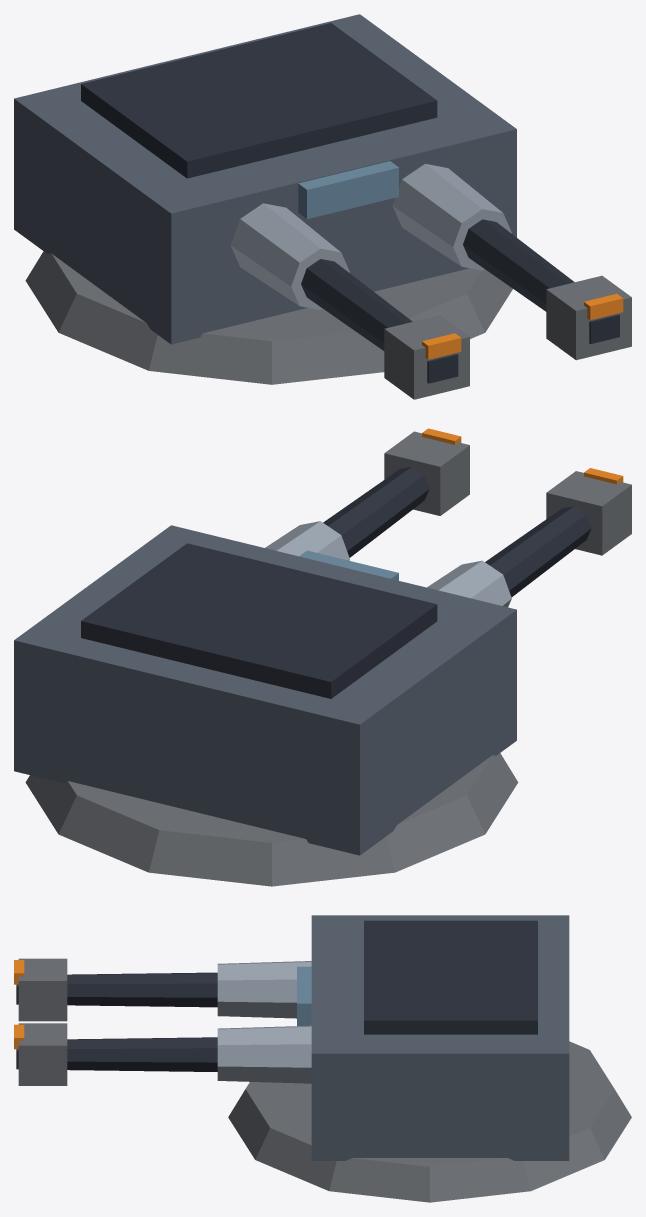
The model's file is installation-cannon.glb.
The picture shows the model from 3 angles, top to bottom: view 1: azimuth 30°, elevation 25°; view 2: azimuth 150°, elevation 25°; view 3: azimuth 270°, elevation 25°; orthographic projection. The views are drawn at different scales.
Visible parts, largest first — view 1: installation_cannon; view 2: installation_cannon; view 3: installation_cannon.
Boxes of the visible parts, x1=… form: installation_cannon: x1=14, y1=14, x2=631, y2=399; installation_cannon: x1=14, y1=428, x2=631, y2=886; installation_cannon: x1=14, y1=915, x2=631, y2=1202.
Size of the model in its own units: 3.19 by 1.28 by 4.88.
